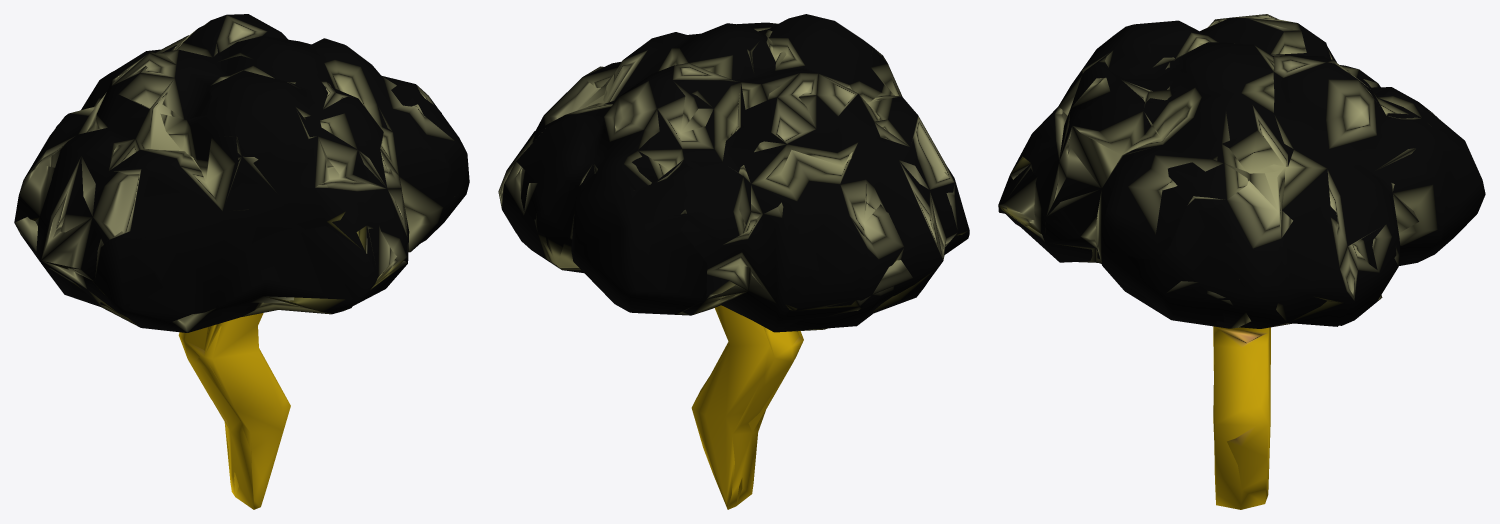
File: gen3d-storm-cloud-lod0.glb
3 renders of one model, left to right at view 1: azimuth 30°, elevation 25°; view 2: azimuth 150°, elevation 25°; view 3: azimuth 270°, elevation 25°, orthographic.
Parts seen in each view (by area): view 1: part_0; view 2: part_0; view 3: part_0.
Part boxes in pixels (x1,y1,x2,y2): part_0: (14,14,469,509); part_0: (498,14,969,509); part_0: (998,14,1485,509).
Size of the model in its own units: 0.9263 by 0.9892 by 0.9388.
